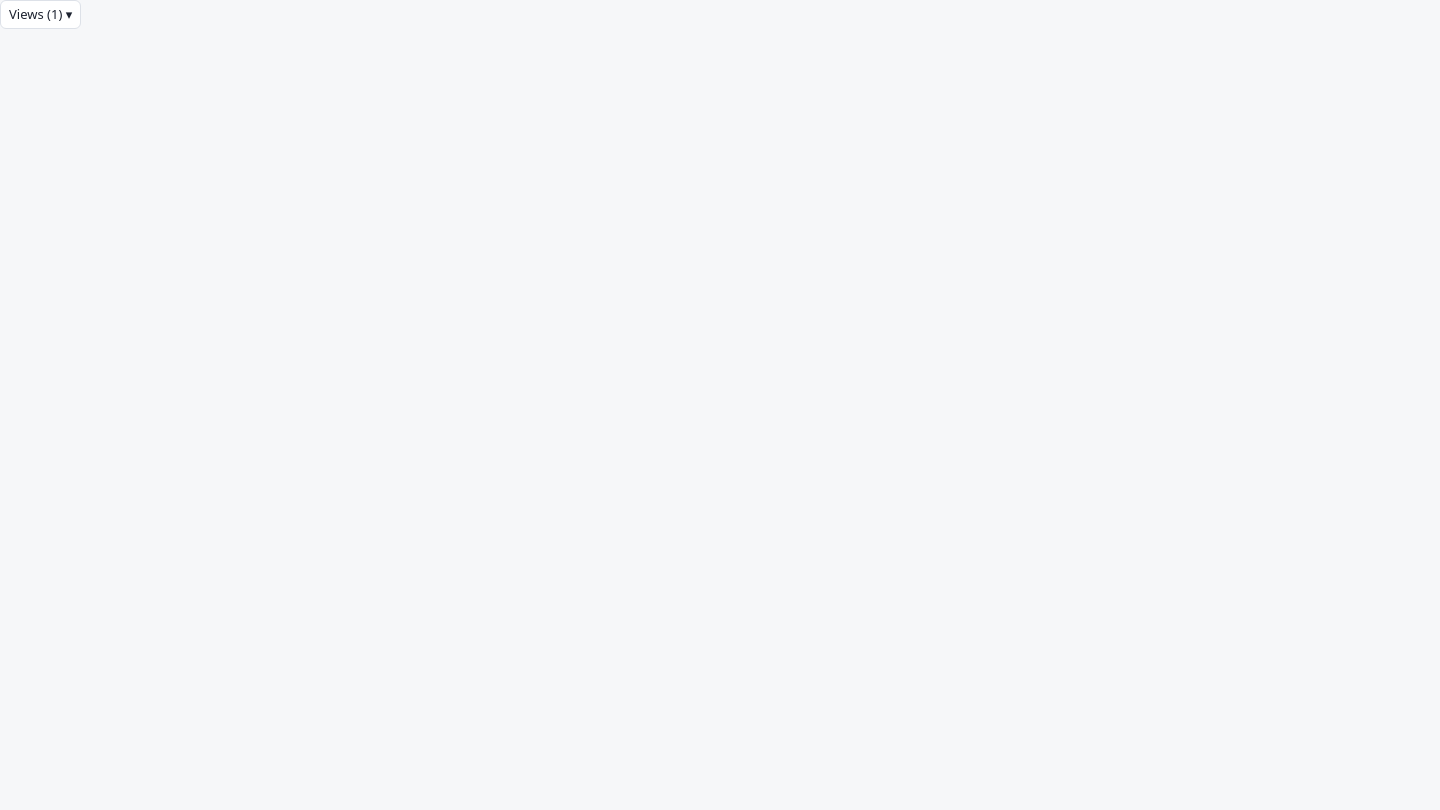
Scenario: ViewsMenu › opening a view applies its state, checked against what the page accepts
Click the button "Views (1) ▾" at [41, 14], box [0,0,81,29]
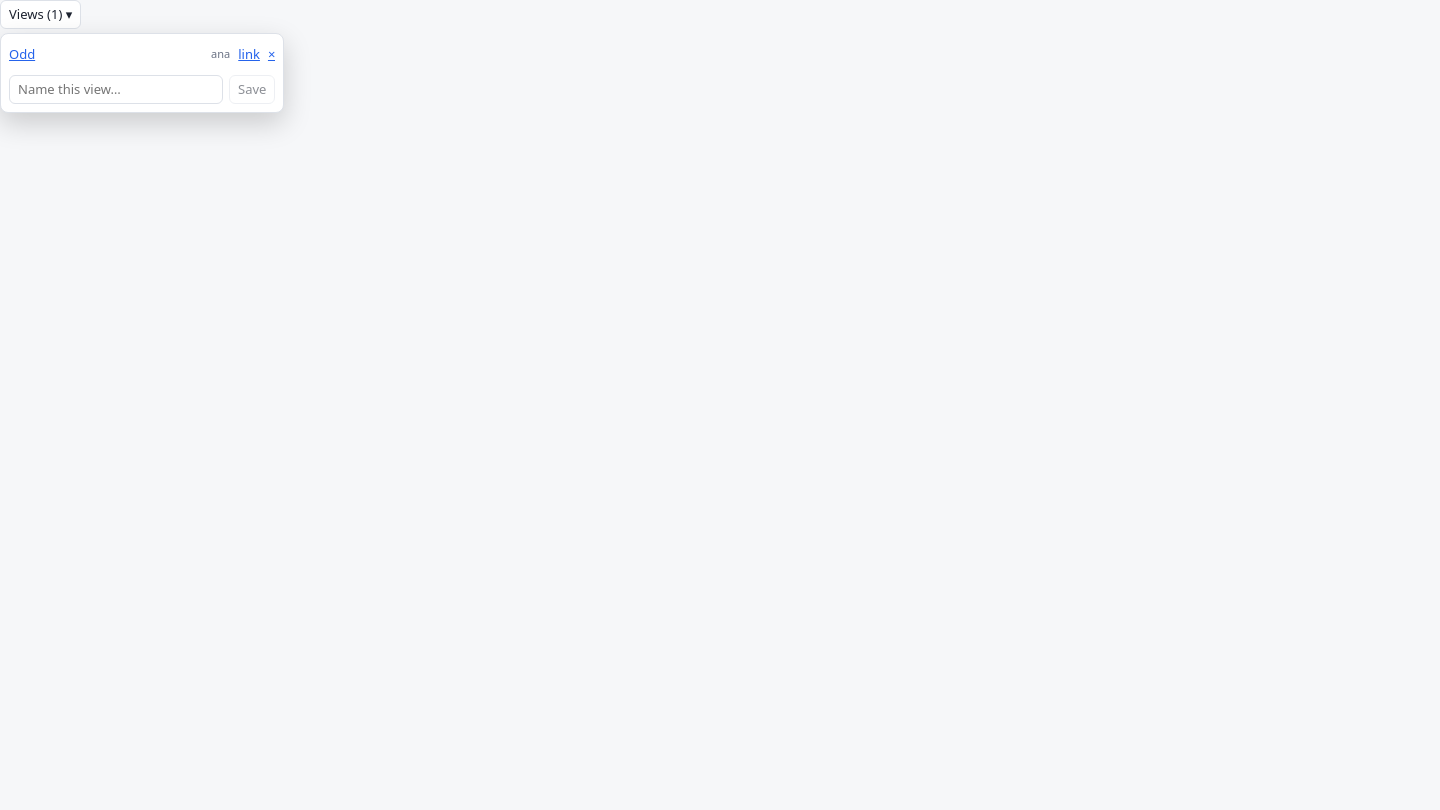
Click the button "Odd" at [106, 54], box [9,45,203,64]
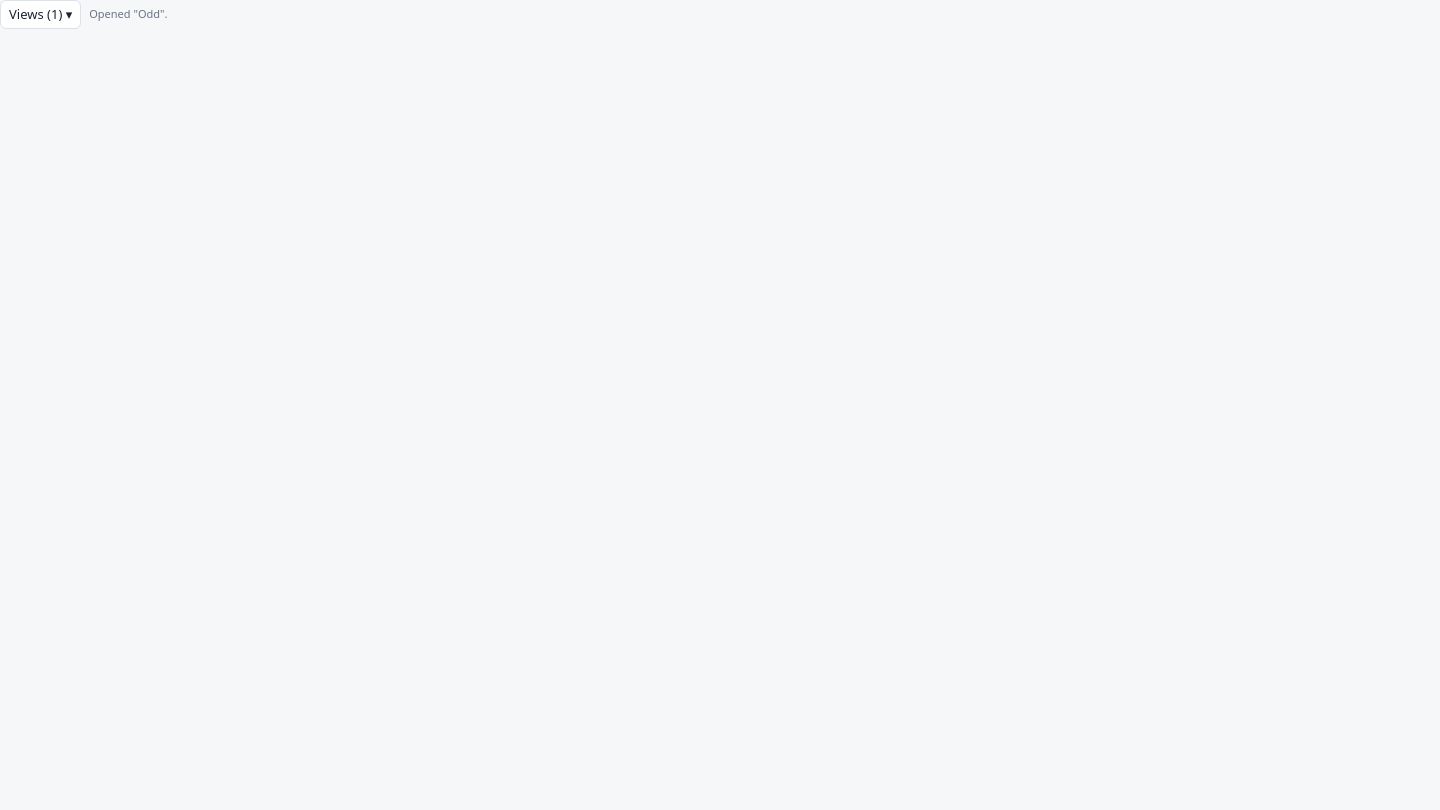
Now the dialog is gone
